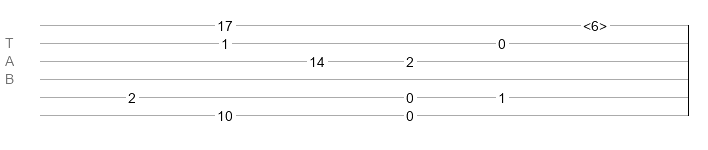0: (406, 108, 414, 118), (406, 90, 414, 100), (498, 36, 506, 46)
1: (221, 36, 229, 46), (498, 90, 506, 100)
10: (217, 108, 233, 118)
14: (309, 54, 325, 64)
17: (217, 18, 233, 28)
2: (128, 90, 136, 100), (406, 54, 414, 64)
harmonic: (583, 18, 607, 28)
